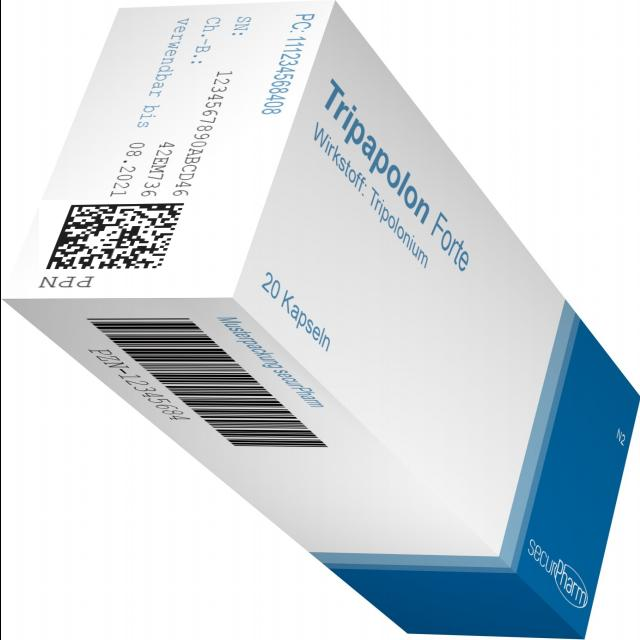DataMatrix: (38, 200, 190, 272)
